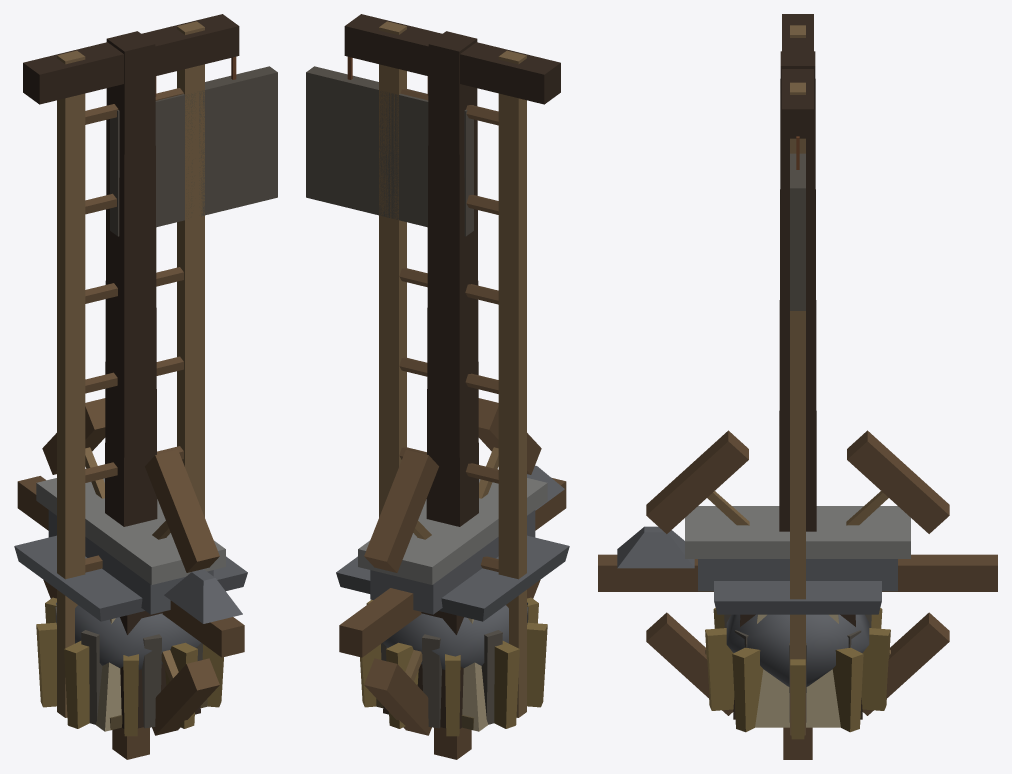
File: tools.gltf
The picture shows the model from 3 angles, left to right: view 1: azimuth 30°, elevation 25°; view 2: azimuth 150°, elevation 25°; view 3: azimuth 270°, elevation 25°; orthographic projection. The views are drawn at different scales.
Parts seen in each view (by area): view 1: prop_tool_sign_board, prop_tool_ladder, prop_tool_cart_wheel, prop_tool_anvil, prop_tool_cauldron, prop_tool_basket, prop_tool_bucket, prop_tool_sack; view 2: prop_tool_sign_board, prop_tool_ladder, prop_tool_cart_wheel, prop_tool_anvil, prop_tool_cauldron, prop_tool_basket, prop_tool_bucket, prop_tool_sack; view 3: prop_tool_cart_wheel, prop_tool_anvil, prop_tool_sign_board, prop_tool_cauldron, prop_tool_basket, prop_tool_ladder, prop_tool_sack.
Part boxes in pixels (x1,y1,x2,y2): prop_tool_sign_board: [23, 14, 277, 526]; prop_tool_ladder: [57, 21, 204, 717]; prop_tool_cart_wheel: [17, 398, 244, 759]; prop_tool_anvil: [36, 478, 242, 728]; prop_tool_cauldron: [14, 535, 247, 669]; prop_tool_basket: [36, 597, 223, 736]; prop_tool_bucket: [55, 607, 202, 728]; prop_tool_sack: [95, 618, 207, 731]; prop_tool_sign_board: [306, 14, 560, 526]; prop_tool_ladder: [379, 21, 526, 717]; prop_tool_cart_wheel: [339, 398, 566, 759]; prop_tool_anvil: [358, 465, 564, 728]; prop_tool_cauldron: [336, 535, 569, 669]; prop_tool_basket: [360, 597, 547, 736]; prop_tool_bucket: [381, 607, 528, 728]; prop_tool_sack: [376, 618, 488, 731]; prop_tool_cart_wheel: [598, 430, 997, 759]; prop_tool_anvil: [617, 506, 910, 719]; prop_tool_sign_board: [779, 14, 816, 531]; prop_tool_cauldron: [714, 581, 881, 686]; prop_tool_basket: [705, 608, 890, 739]; prop_tool_ladder: [790, 25, 805, 735]; prop_tool_sack: [755, 614, 840, 727].
Bounding box in the file's own units: 0.85 × 2.38 × 1.24.
